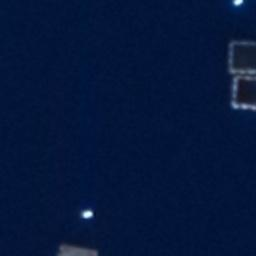square_solid: (225, 38, 256, 78), (229, 71, 256, 113)
